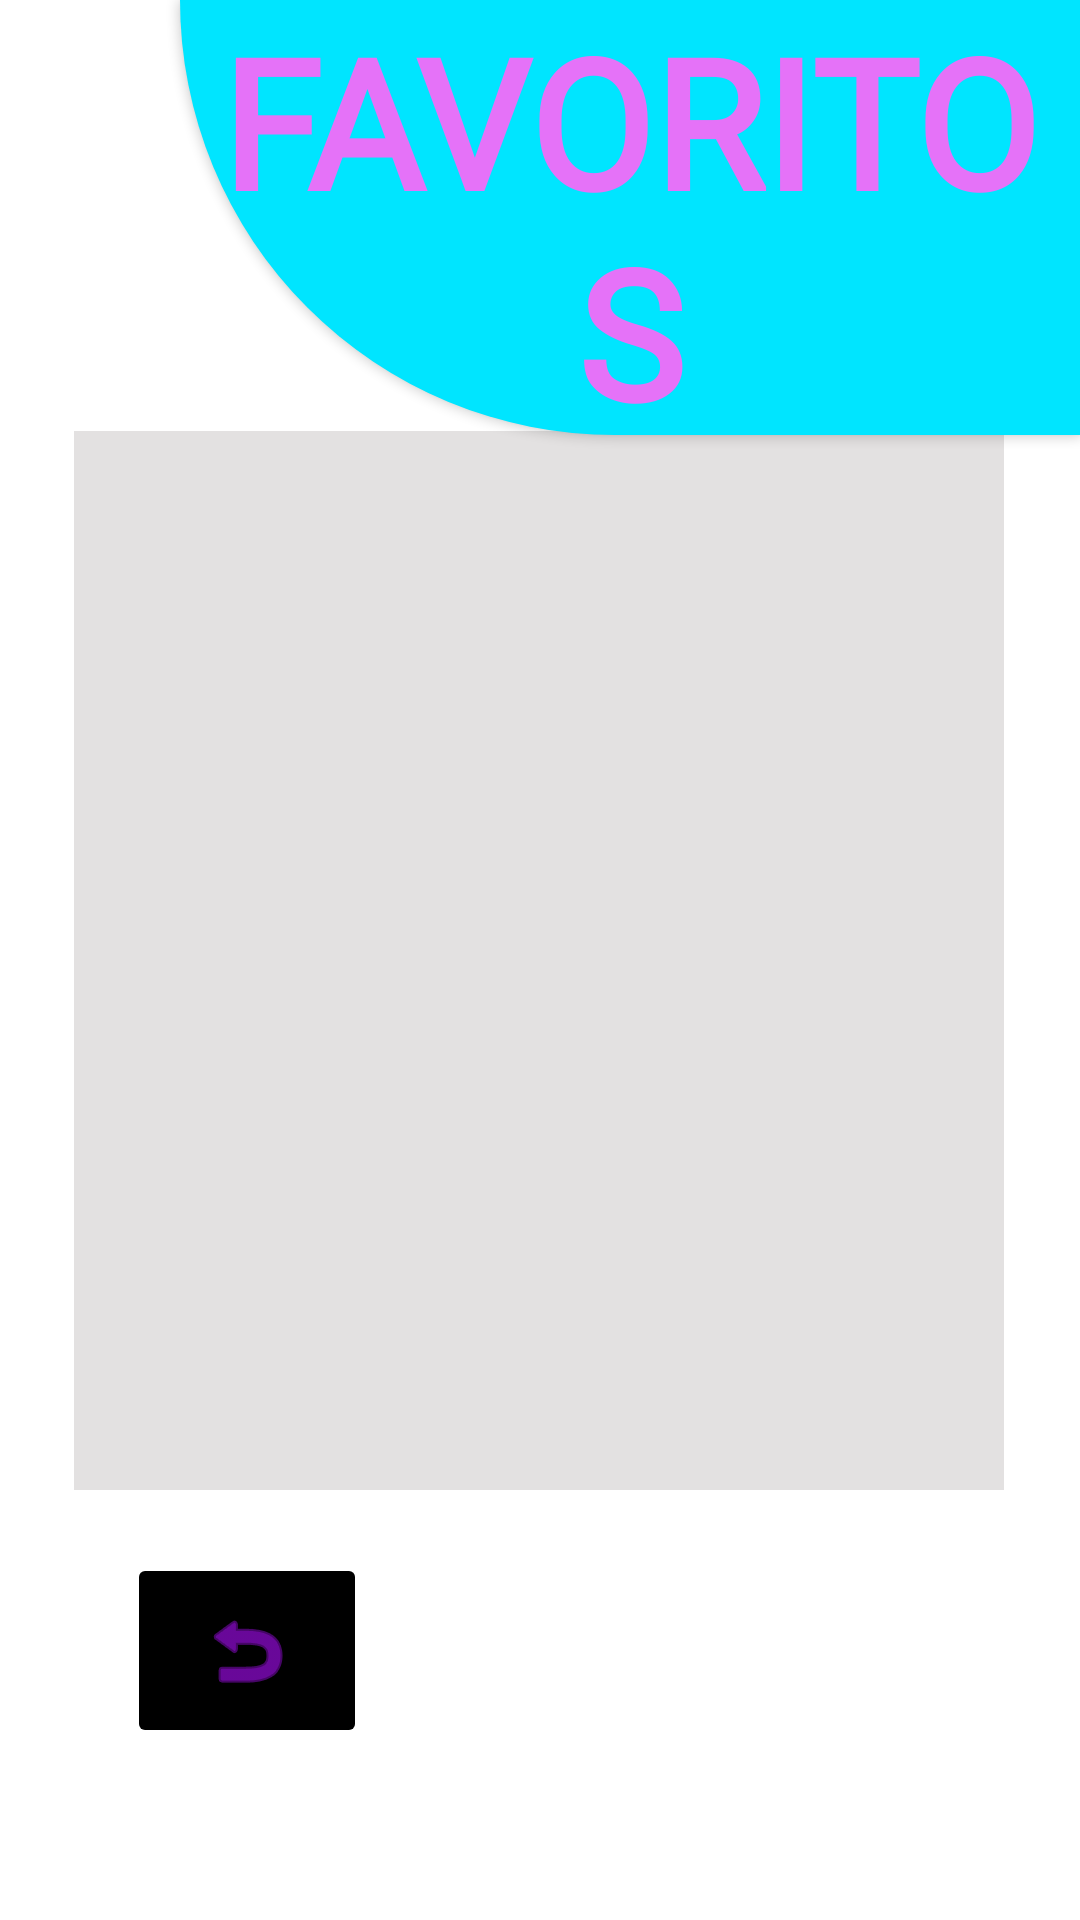

Locate icon controls on the screen. Image size 1080px x 1920px, boxes as (x1, y1, x2, y2).
revert: (139, 1571, 355, 1730)
